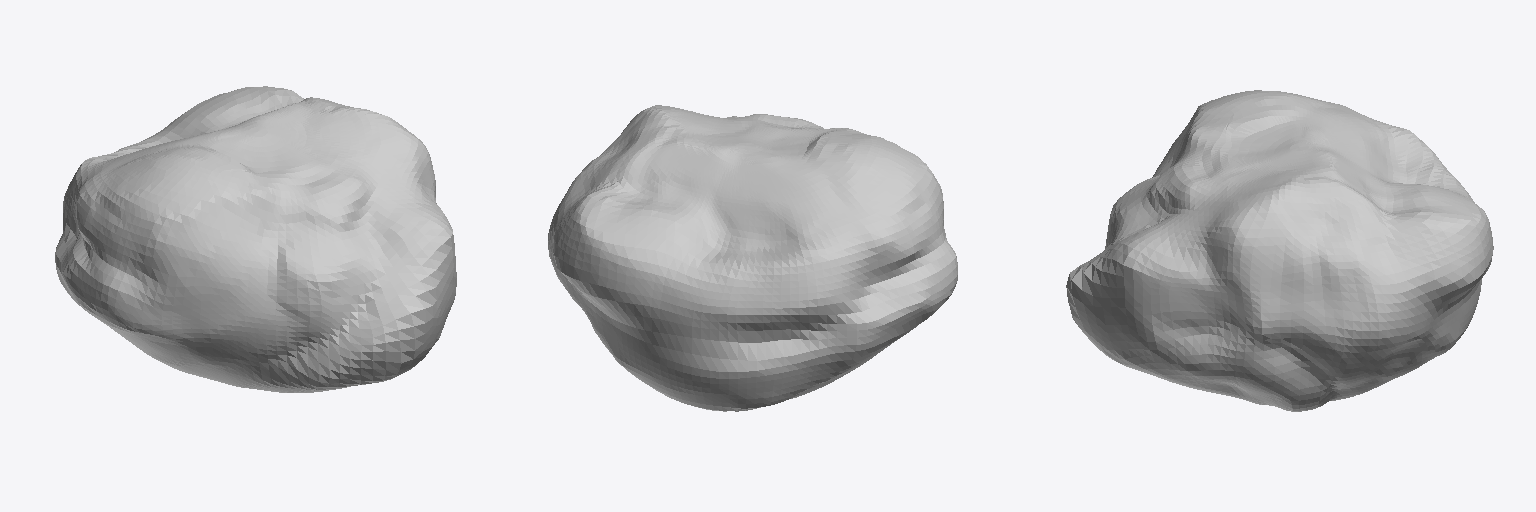
The model's file is StoneOneUV.OBJ.
3 views of the same model, side by side, from view 1: azimuth 30°, elevation 25°; view 2: azimuth 150°, elevation 25°; view 3: azimuth 270°, elevation 25° (orthographic).
Parts seen in each view (by area): view 1: Group12887; view 2: Group12887; view 3: Group12887.
Part boxes in pixels (x1,y1,x2,y2): Group12887: (55, 86, 456, 392); Group12887: (548, 105, 957, 411); Group12887: (1066, 90, 1493, 411).
Bounding box in the file's own units: 0.3522 × 0.2335 × 0.3728.